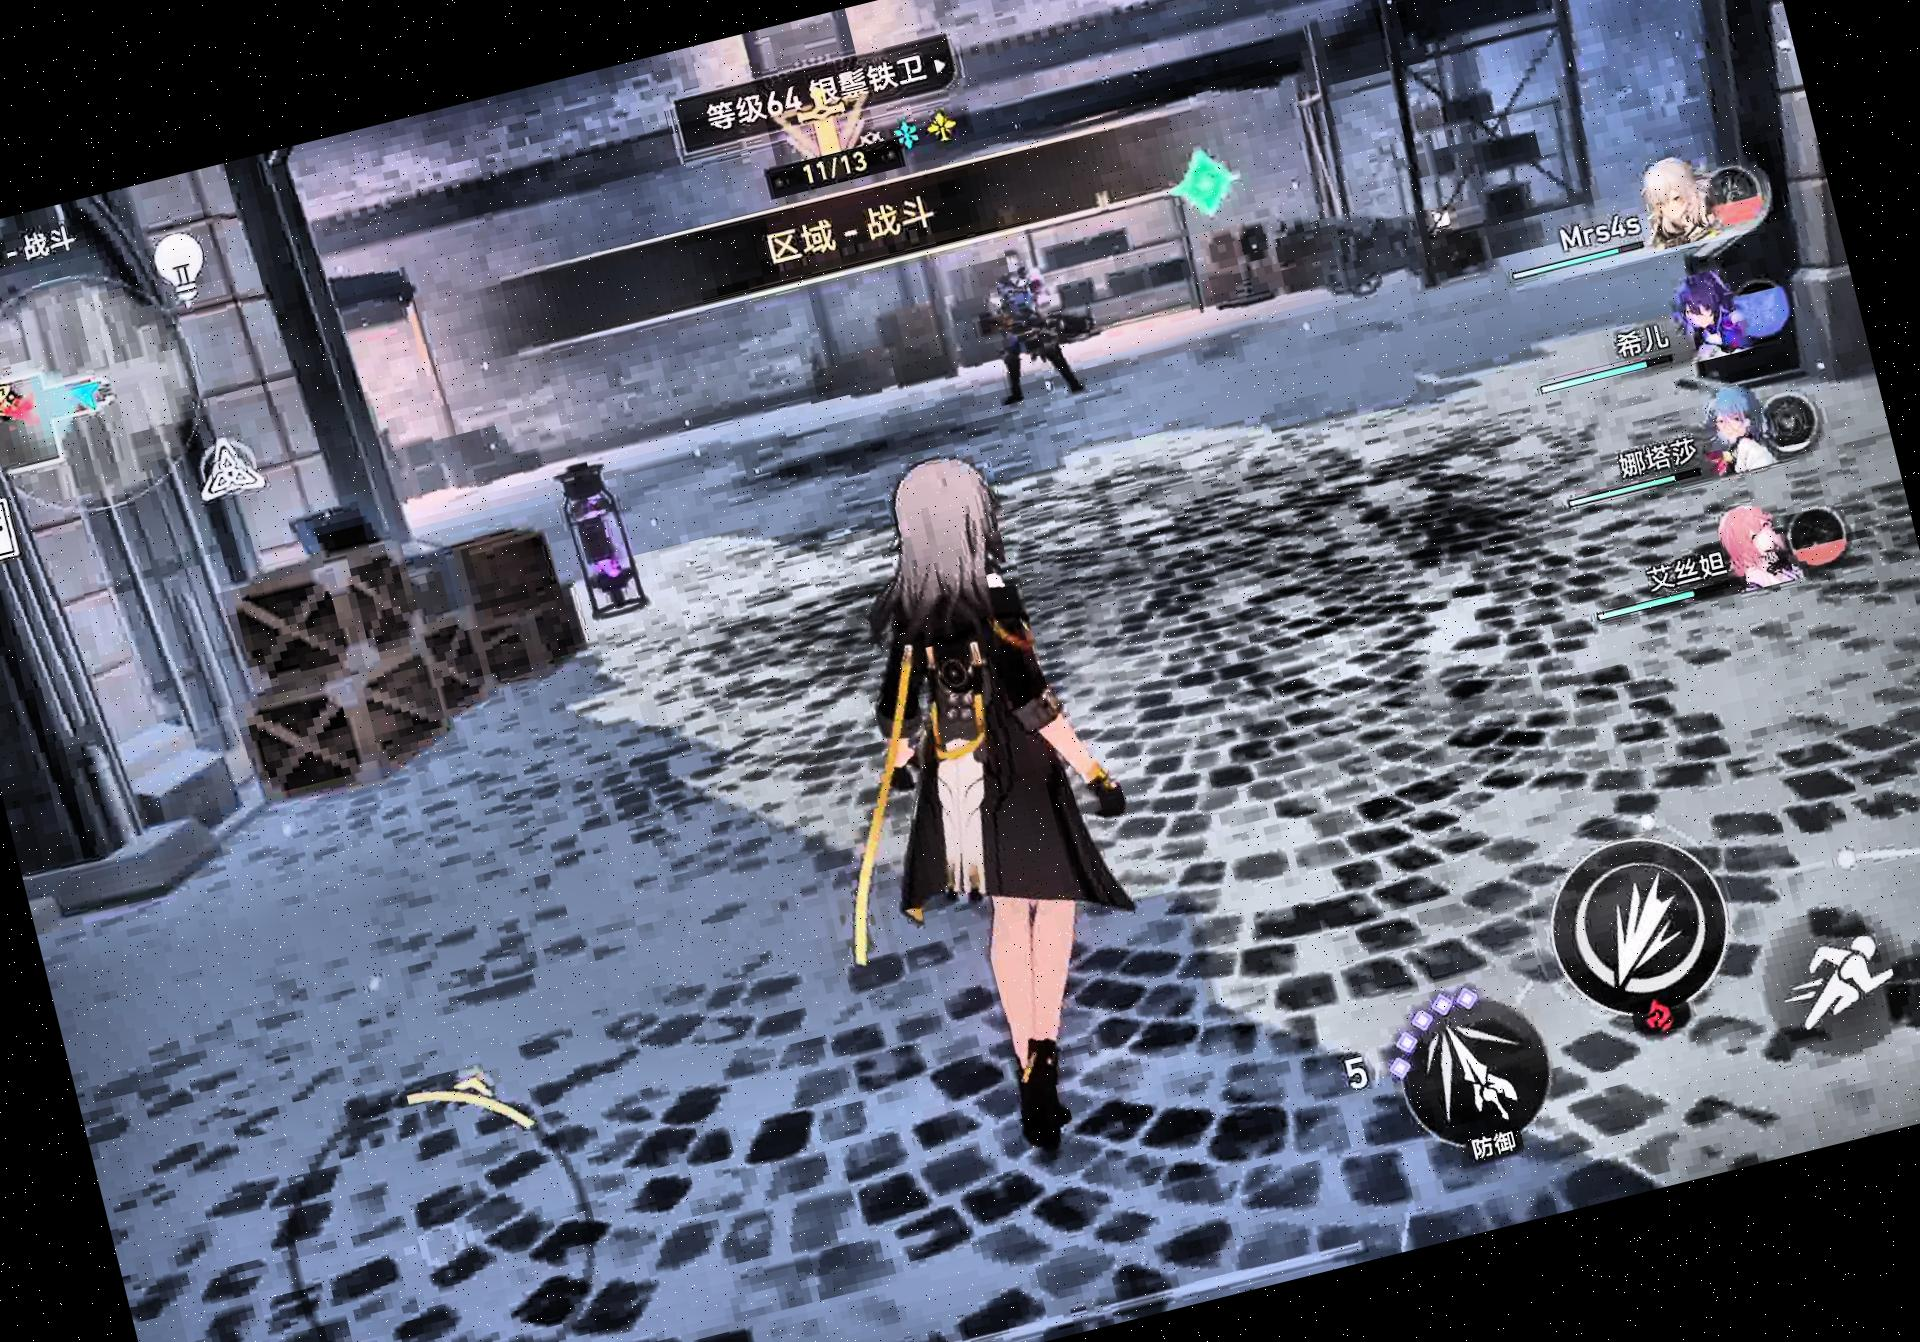Enemy: (966, 242, 1090, 407)
SafeDoor: (1161, 143, 1247, 226)
Self: (728, 432, 1207, 1186)
